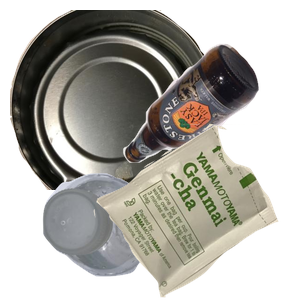glass: (120, 41, 300, 196)
metal: (10, 10, 221, 190)
plastic: (40, 170, 187, 300)
trash: (91, 124, 300, 300)
